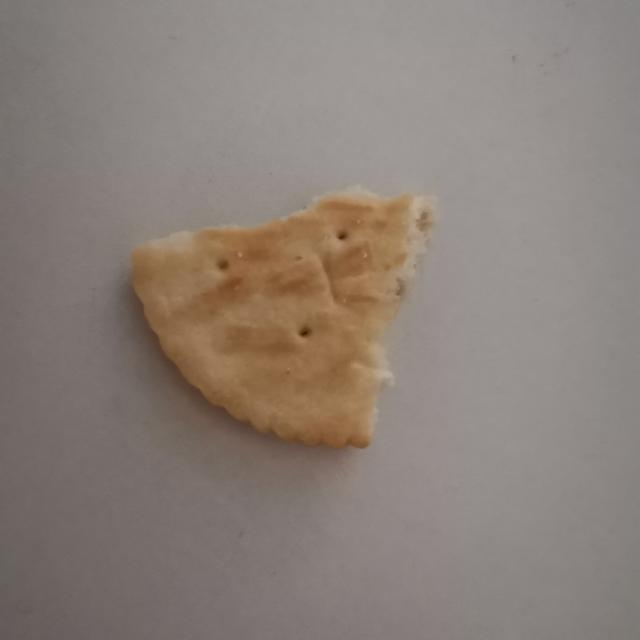Broken: (128, 184, 436, 451)
